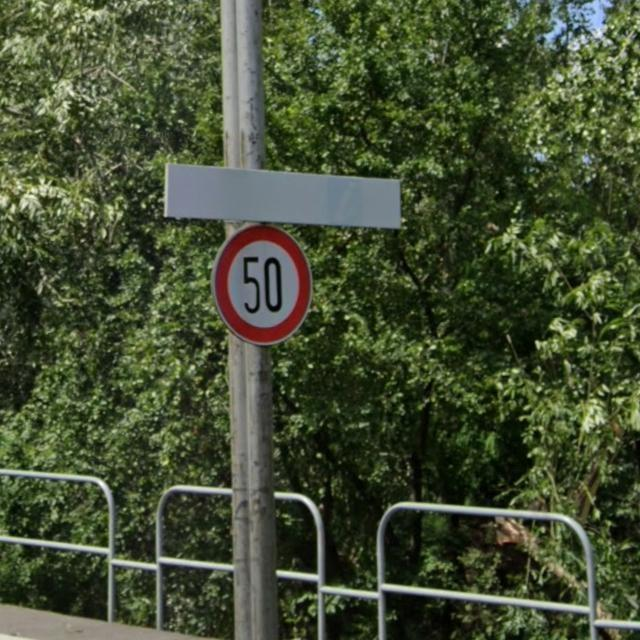forb_speed_over_50: (212, 226, 313, 347)
